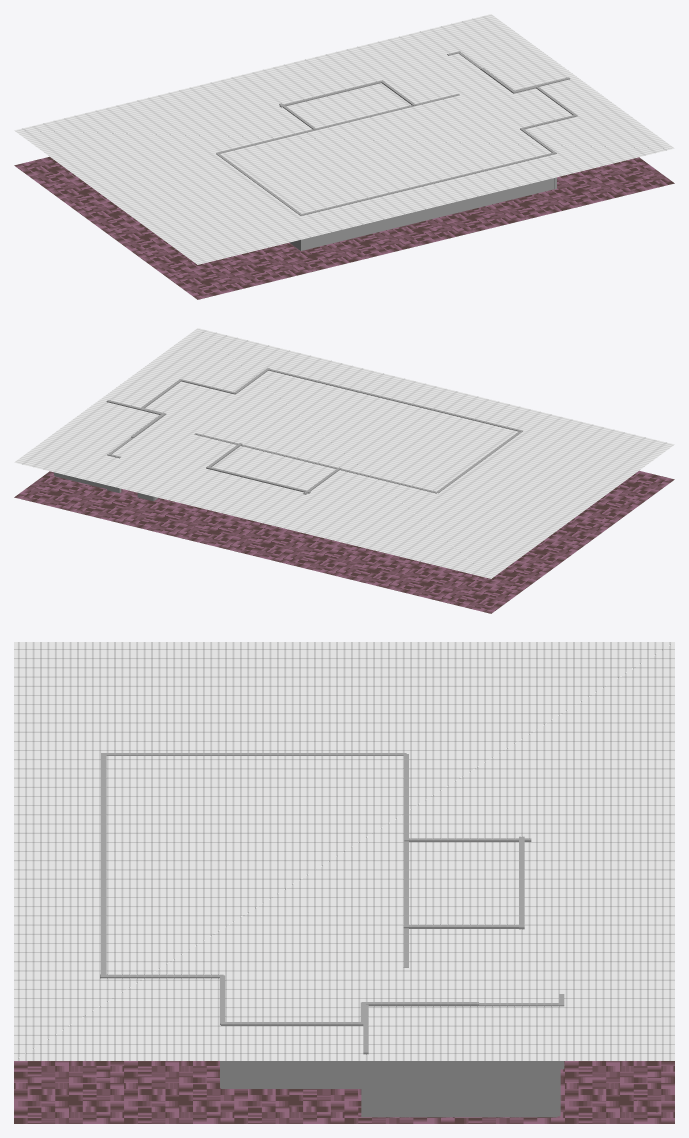
Rendered from plattegrond_2.obj.
3 renders of one model, top to bottom at view 1: azimuth 30°, elevation 25°; view 2: azimuth 150°, elevation 25°; view 3: azimuth 270°, elevation 25°, orthographic. The views are drawn at different scales.
Parts seen in each view (by area): view 1: plafond_Plane.001, Vloer_Plane, Cube.008; view 2: plafond_Plane.001, Vloer_Plane, Cube.008; view 3: plafond_Plane.001, Vloer_Plane, Cube.016, Cube.004, Cube.008, Cube.002.
Boxes of the visible parts, bbox=[...] form: plafond_Plane.001: bbox=[14, 14, 674, 264]; Vloer_Plane: bbox=[14, 156, 674, 299]; Cube.008: bbox=[299, 152, 553, 250]; plafond_Plane.001: bbox=[14, 328, 674, 578]; Vloer_Plane: bbox=[14, 470, 674, 613]; Cube.008: bbox=[268, 369, 522, 431]; plafond_Plane.001: bbox=[14, 642, 674, 1060]; Vloer_Plane: bbox=[14, 1061, 674, 1123]; Cube.016: bbox=[361, 1061, 557, 1117]; Cube.004: bbox=[221, 1022, 363, 1088]; Cube.008: bbox=[101, 753, 106, 974]; Cube.002: bbox=[106, 753, 406, 755].
Bounding box in the file's own units: 90 × 7 × 60.
